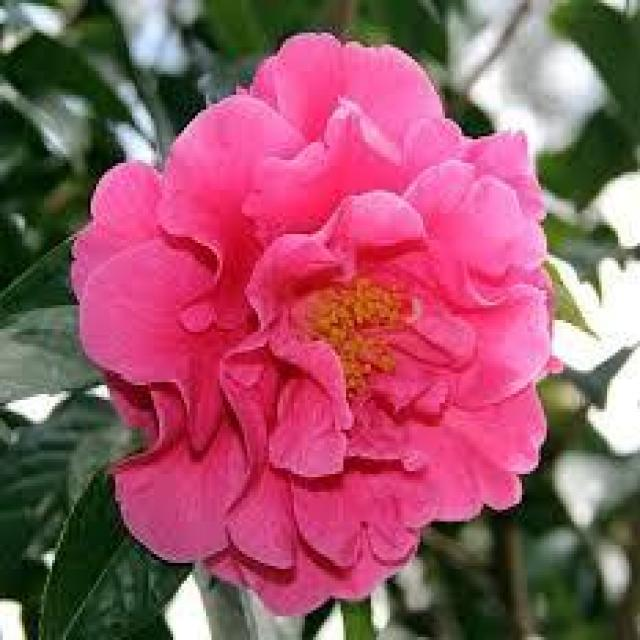organic waste: (86, 41, 581, 592)
